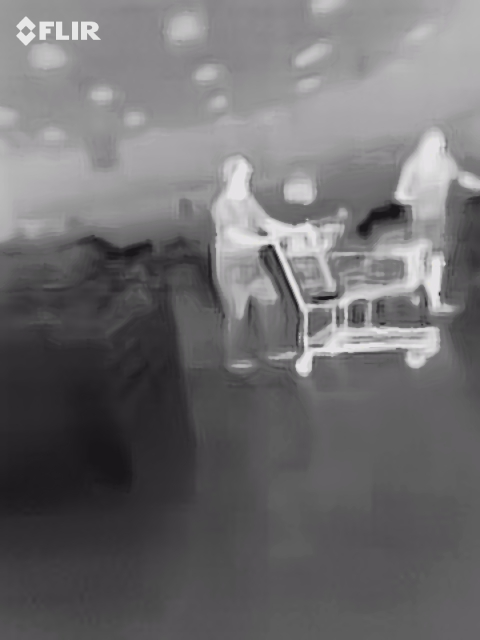head: (220, 154, 255, 195), (416, 126, 445, 161)
